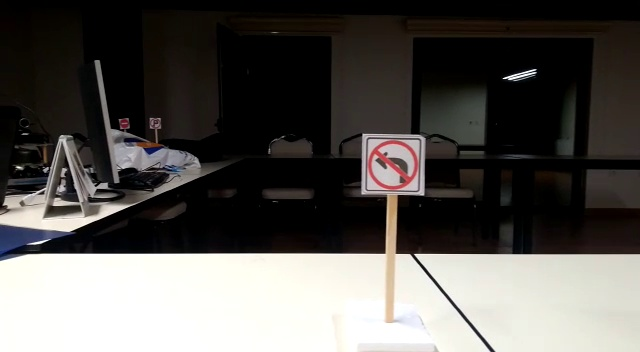sola_donulmez: (366, 138, 421, 194)
